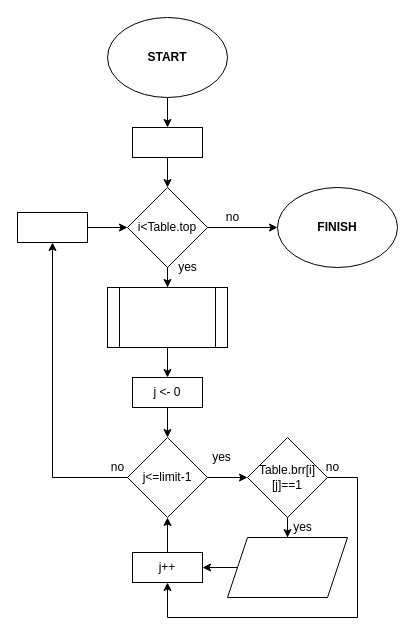
This 415x643 diagram has some shape labels left out. The centre of each missing label's shape, as x and y in pixels:
i <- 0: pixel 167 142
i++: pixel 52 227
konversiBinerKeNotasiMinterm(i): pixel 167 317
output(j): pixel 287 567
